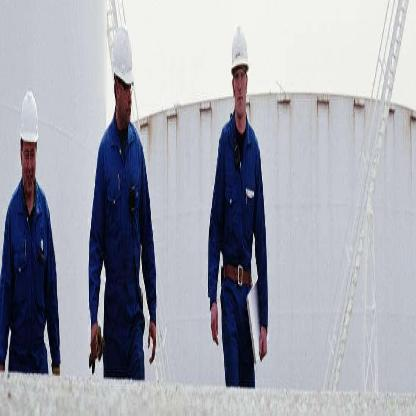helmet: (16, 82, 40, 202), (111, 23, 134, 130), (230, 20, 249, 129)
